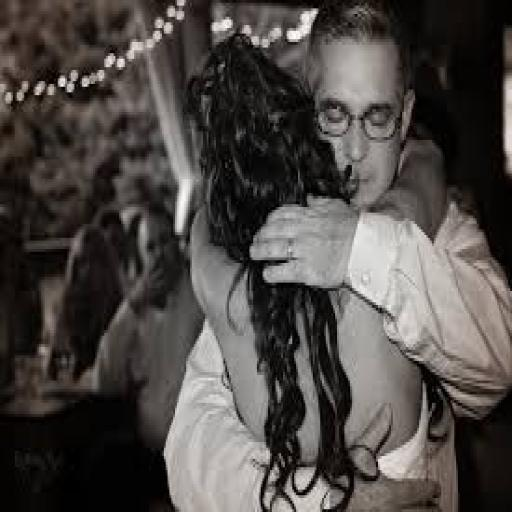hugging: (160, 3, 510, 509)
